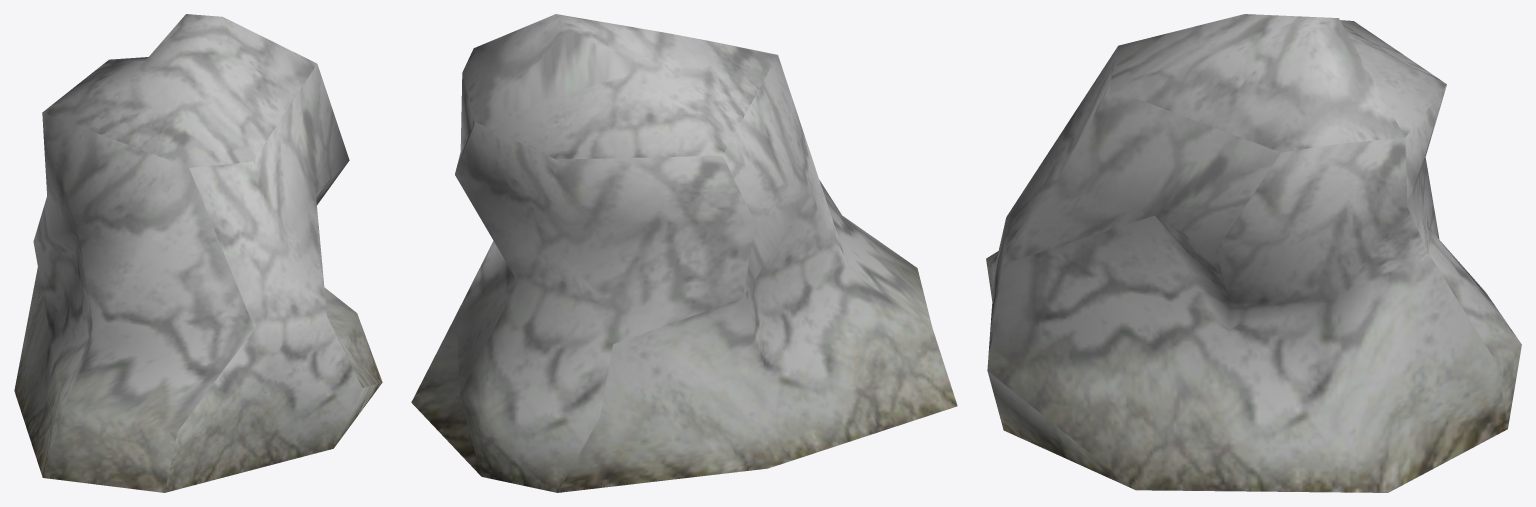
File: general_obj_bigstone05_lod_01.fbx
The picture shows the model from 3 angles, left to right: view 1: azimuth 30°, elevation 25°; view 2: azimuth 150°, elevation 25°; view 3: azimuth 270°, elevation 25°; orthographic projection. The views are drawn at different scales.
Visible parts, largest first — view 1: Sphere01; view 2: Sphere01; view 3: Sphere01.
Part boxes in pixels (x1=…): Sphere01: x1=14, y1=14, x2=382, y2=492; Sphere01: x1=411, y1=14, x2=957, y2=492; Sphere01: x1=986, y1=14, x2=1521, y2=492.
Bounding box in the file's own units: 17.47 × 15.74 × 18.79.
